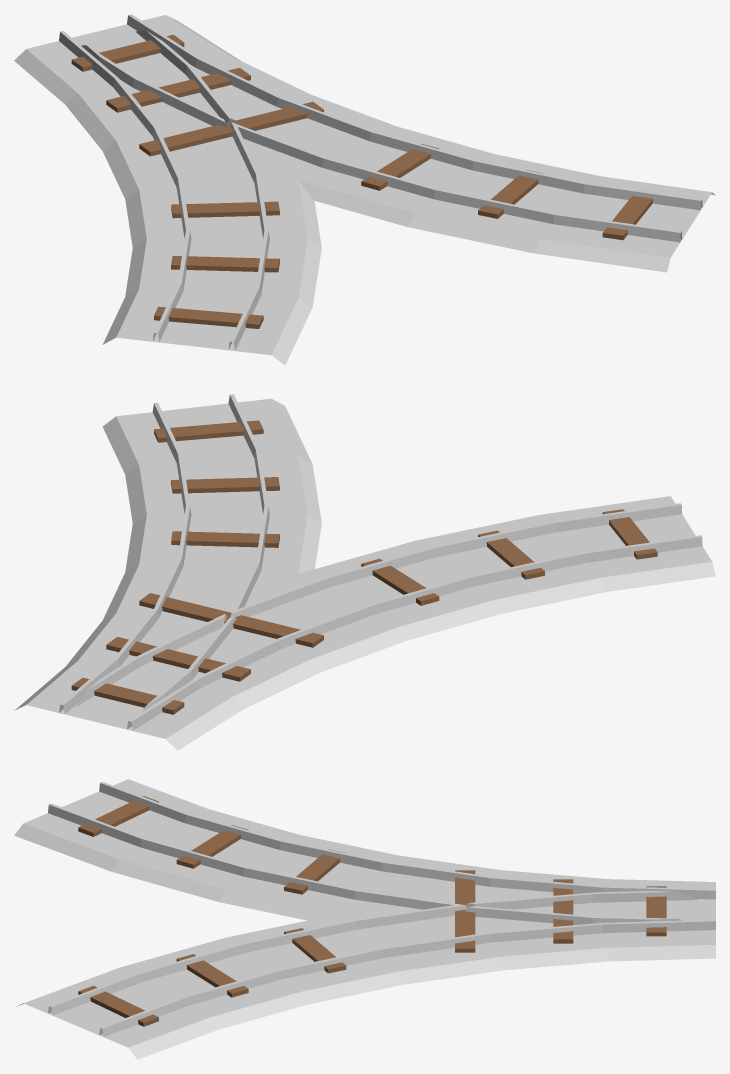
The model's file is 1_Y_curve_medium.fbx.
The picture shows the model from 3 angles, top to bottom: view 1: azimuth 30°, elevation 25°; view 2: azimuth 150°, elevation 25°; view 3: azimuth 270°, elevation 25°; orthographic projection. The views are drawn at different scales.
Visible parts, largest first — view 1: 1_Y_curve_medium; view 2: 1_Y_curve_medium; view 3: 1_Y_curve_medium.
Boxes of the visible parts, x1,y1,x2,y2 form: 1_Y_curve_medium: (14, 14, 715, 365); 1_Y_curve_medium: (14, 394, 715, 750); 1_Y_curve_medium: (14, 779, 715, 1059).
Size of the model in its own units: 7.22 by 0.2 by 7.75.
